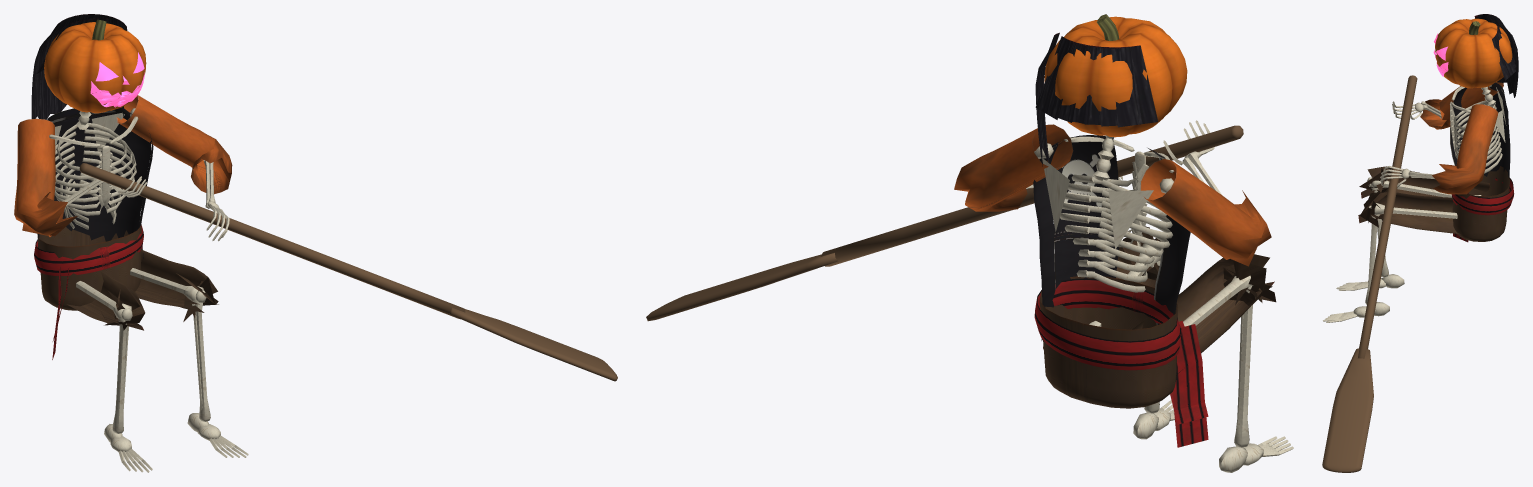
File: skeleton-pirate-sit.glb
3 views of the same model, side by side, from view 1: azimuth 30°, elevation 25°; view 2: azimuth 150°, elevation 25°; view 3: azimuth 270°, elevation 25° (orthographic). The views are drawn at different scales.
Visible parts, largest first — view 1: skeleton, head, oar; view 2: skeleton, head, oar; view 3: skeleton, oar, head.
Boxes of the visible parts, <box> form: skeleton: <box>14,95,248,472</box>; head: <box>31,14,146,119</box>; oar: <box>79,163,617,381</box>; skeleton: <box>954,120,1293,472</box>; head: <box>1035,14,1187,166</box>; oar: <box>646,125,1243,321</box>; skeleton: <box>1323,82,1514,322</box>; oar: <box>1322,75,1417,472</box>; head: <box>1433,14,1518,97</box>.
Bounding box in the file's own units: 1.9 × 1.36 × 0.8164.
5 materials, 3 textured.
